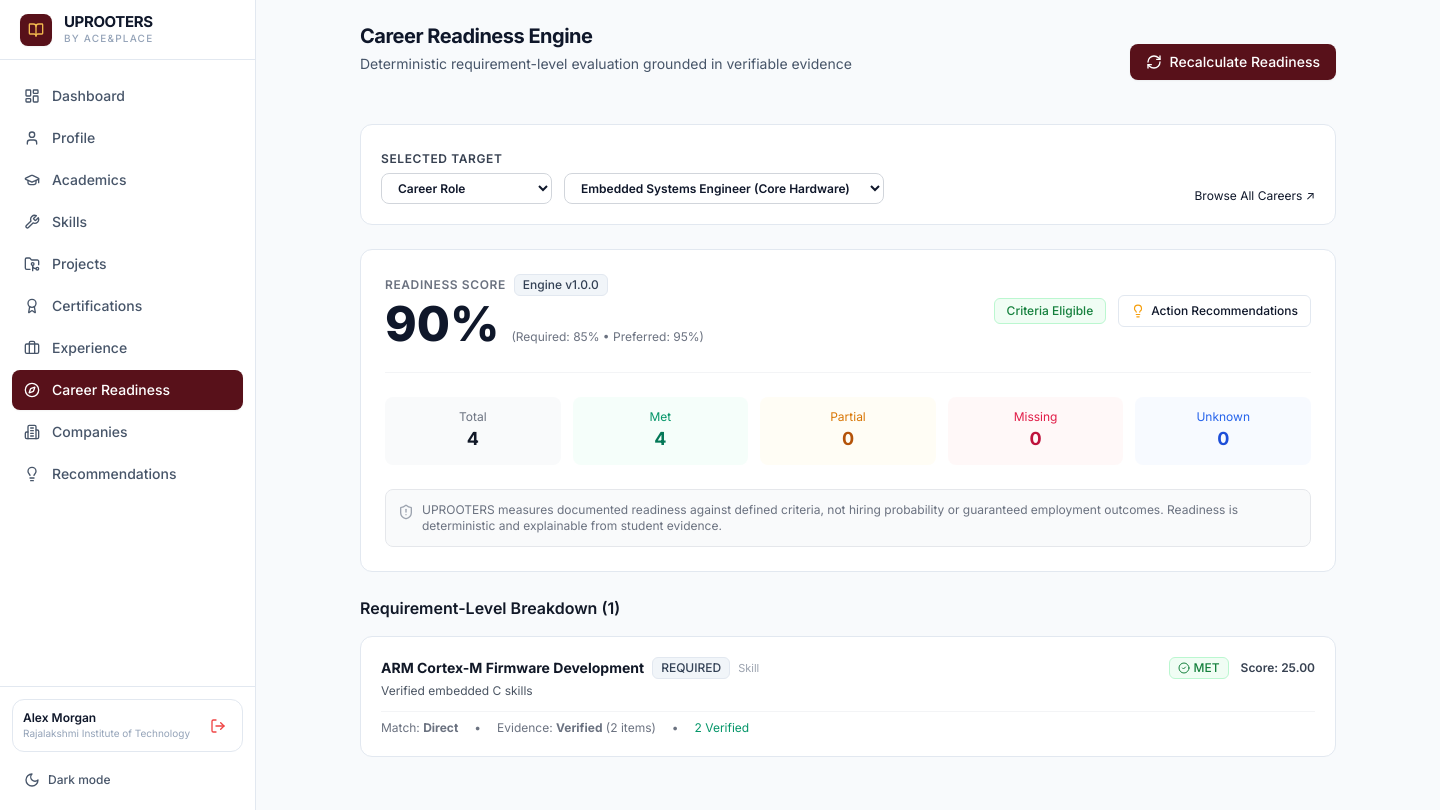
Milestone 11 — Student Application & UI Flow Verification › 9. Readiness Engine UI Flow (/app/readiness) › disables selectors during recalculation and prevents stale recalculation results if target changes
Check: the text "90%" is shown, box x1=385 y1=300 x2=499 y2=348
Click the button "Recalculate Readiness" at (1233,62), box x1=1130 y1=44 x2=1336 y2=80
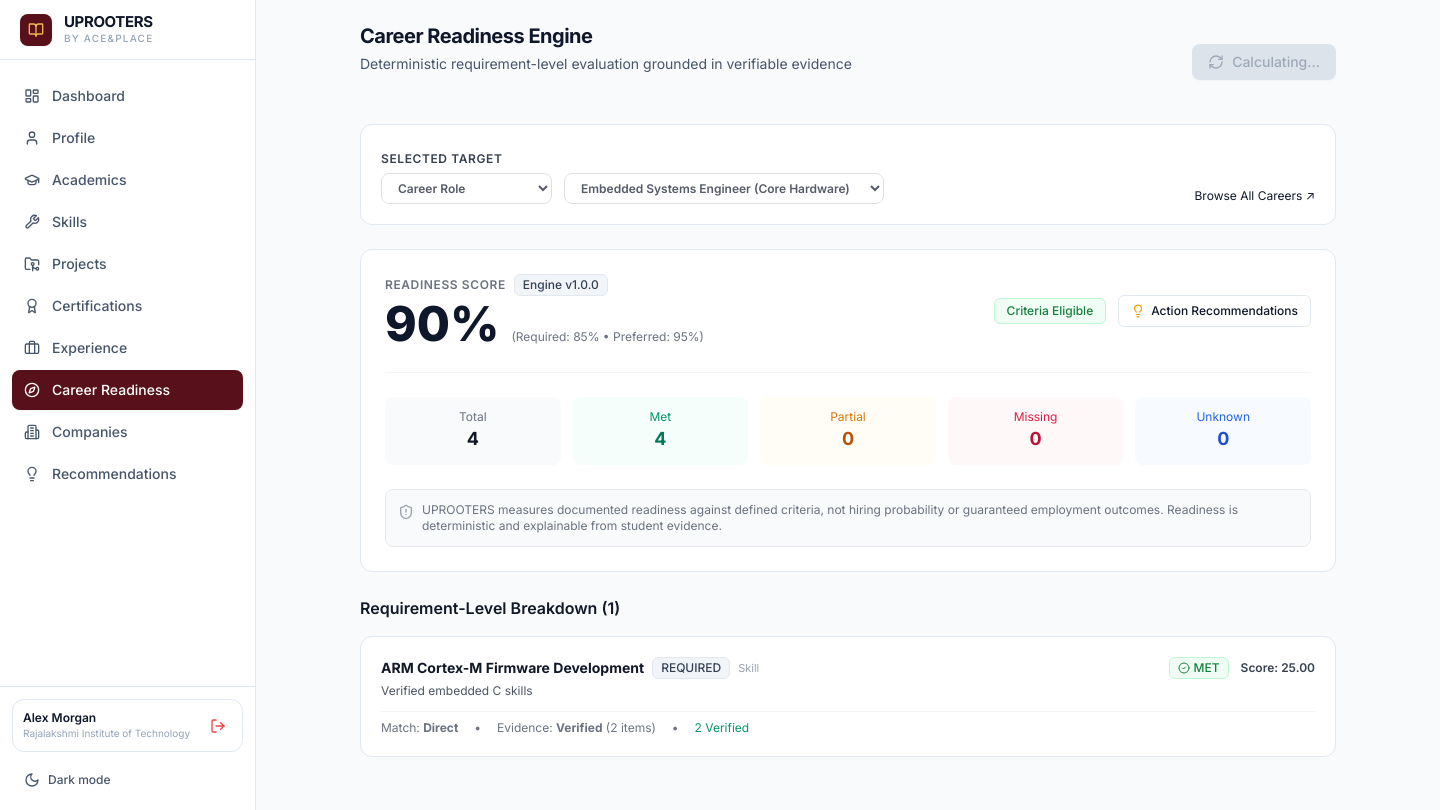
Check: the dropdown with test id "target-type-select" is disabled, box x1=381 y1=173 x2=552 y2=204
Check: the dropdown with test id "target-id-select" is disabled
Check: the button named "Recalculate Readiness" is disabled, box x1=1192 y1=44 x2=1336 y2=80
Select "Digital Signal Processing Engineer (Signal Processing)" in the dropdown with test id "target-id-select" at (724,188), box x1=564 y1=173 x2=884 y2=204
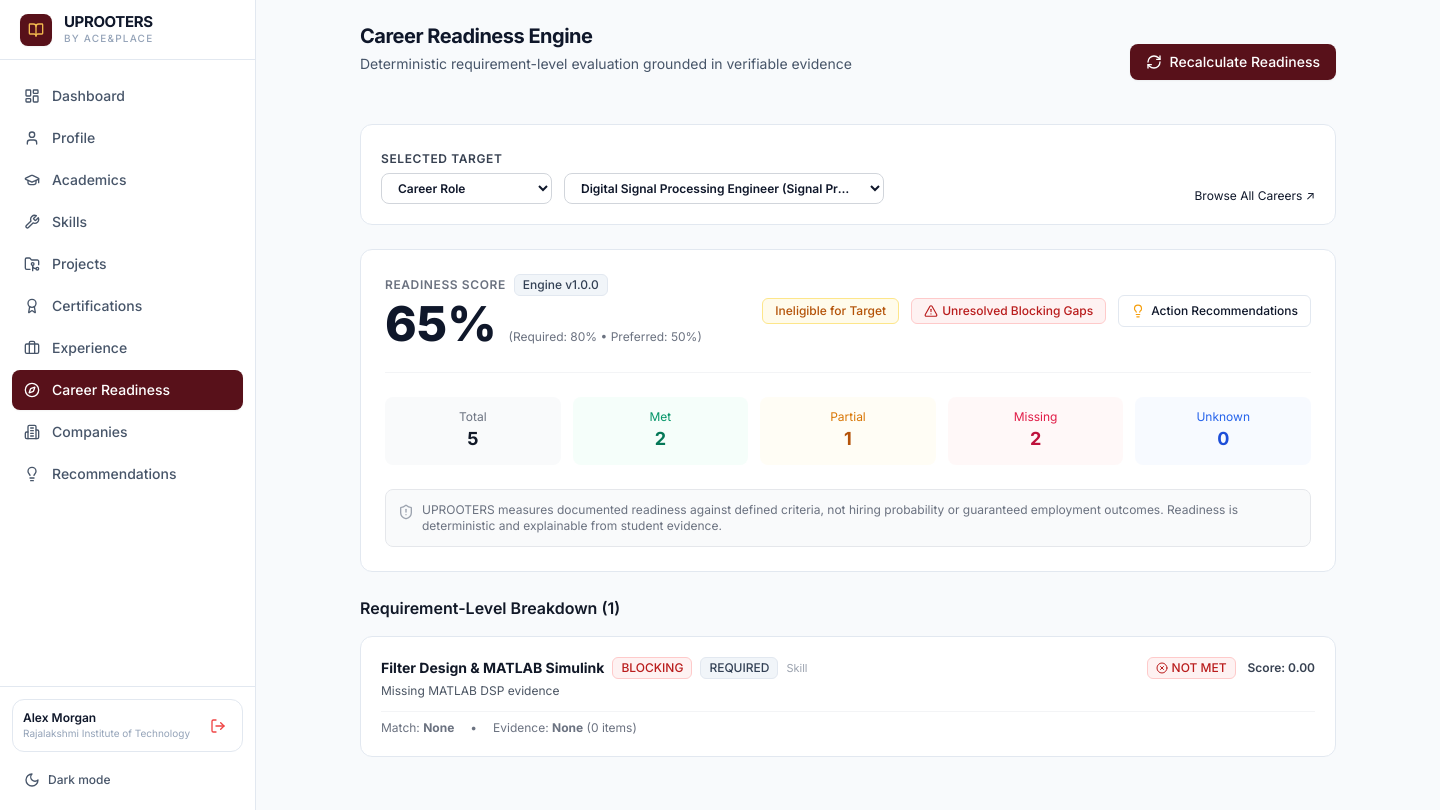
Check: the text "65%" is shown, box x1=385 y1=300 x2=497 y2=348
Check: the heading "Filter Design & MATLAB Simulink" is shown, box x1=381 y1=658 x2=604 y2=678
